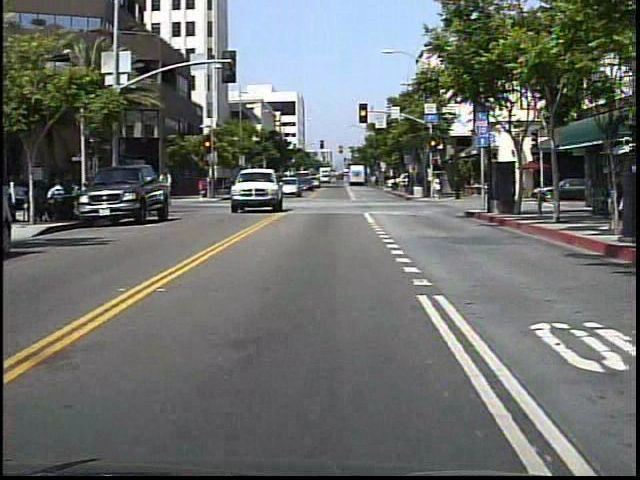person: (155, 169, 177, 205), (451, 172, 465, 205), (431, 175, 443, 199), (199, 175, 210, 199)
